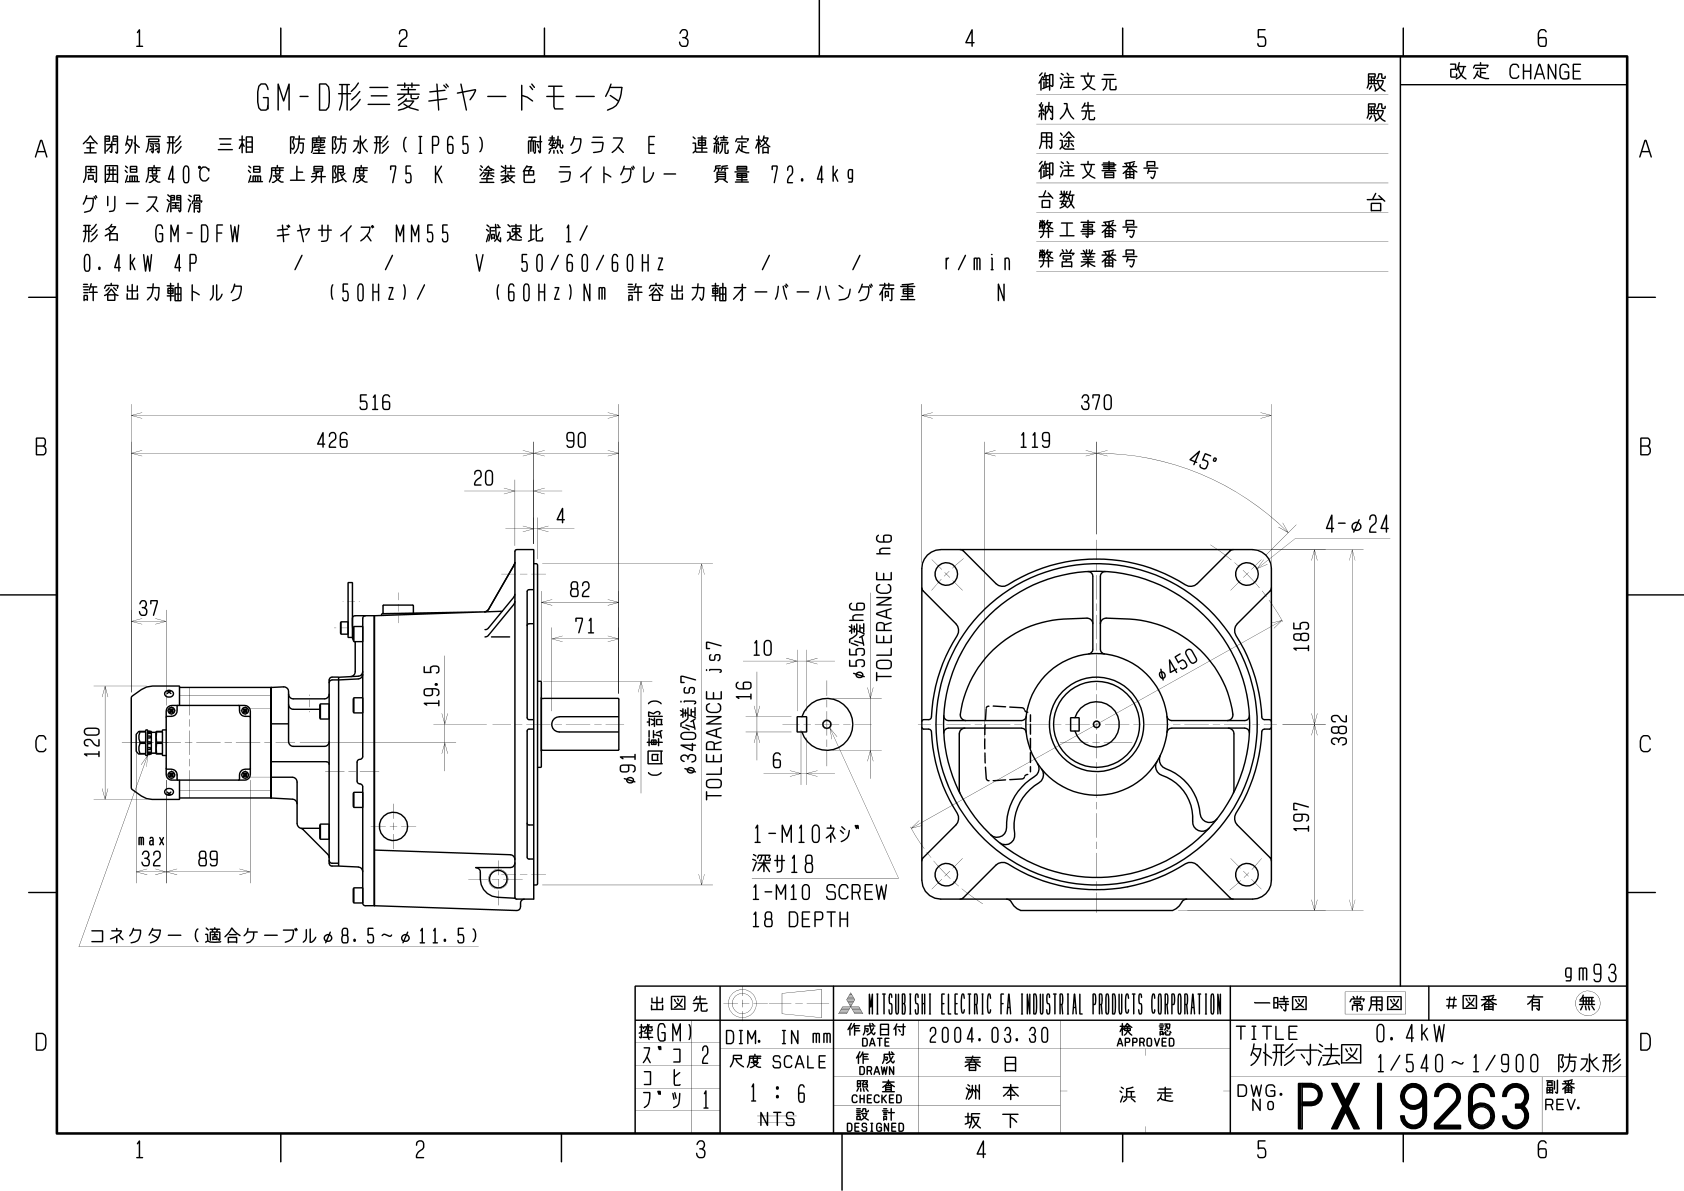GM_D_IP65_三相_フランジ: (13, 3, 1684, 1191)
